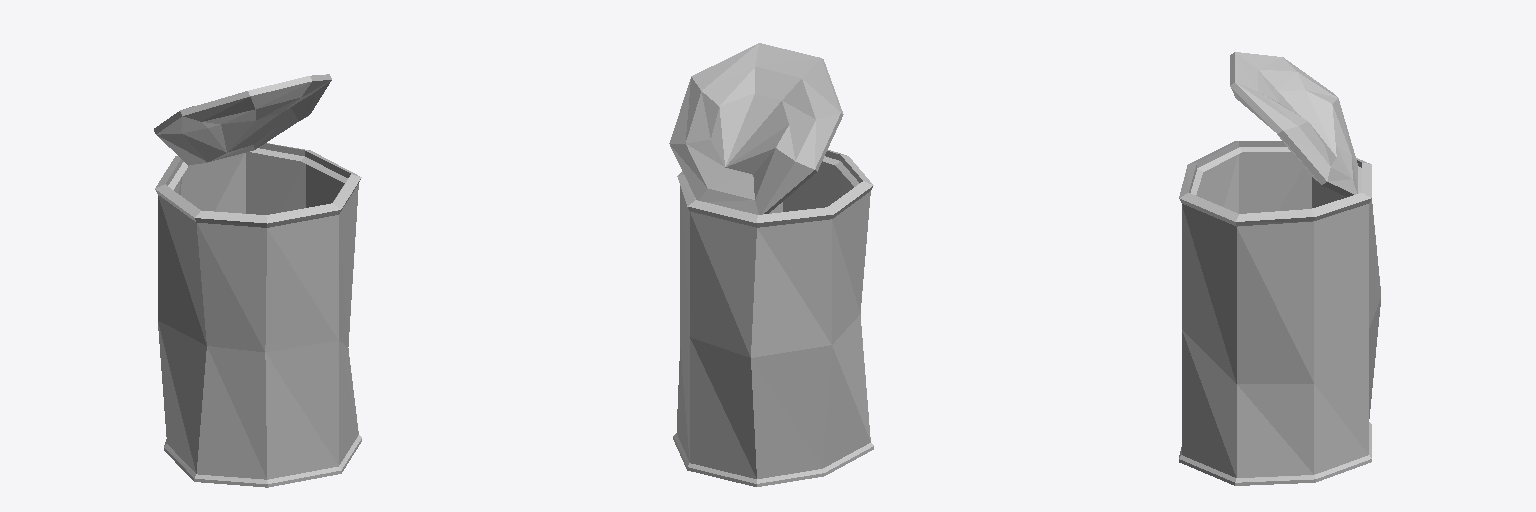
File: Can_01_GEO.obj
3 renders of one model, left to right at view 1: azimuth 30°, elevation 25°; view 2: azimuth 150°, elevation 25°; view 3: azimuth 270°, elevation 25°, orthographic.
Visible parts, largest first — view 1: Can_01_GEO; view 2: Can_01_GEO; view 3: Can_01_GEO.
Boxes of the visible parts, box(x1,y1,x2,y2) form: Can_01_GEO: box(154, 74, 361, 487); Can_01_GEO: box(669, 43, 873, 486); Can_01_GEO: box(1179, 52, 1380, 485).
Bounding box in the file's own units: 901 × 1940 × 943.